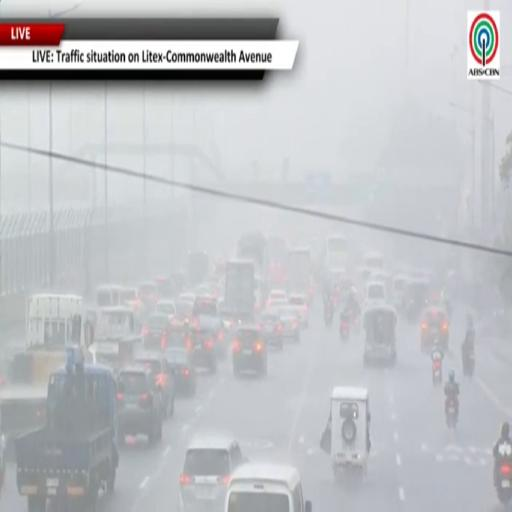car: (179, 436, 247, 511), (225, 463, 312, 511), (117, 365, 163, 443), (135, 351, 175, 417), (233, 326, 267, 375), (165, 348, 196, 397), (193, 315, 227, 359), (187, 327, 217, 374), (421, 307, 449, 350), (143, 313, 171, 349), (260, 309, 284, 350), (280, 307, 300, 342), (289, 294, 308, 328), (192, 295, 218, 318), (176, 293, 196, 321), (138, 281, 158, 308), (365, 281, 386, 302), (155, 299, 176, 318), (155, 277, 174, 297), (267, 290, 287, 307), (267, 299, 288, 308)
motorcycle: (495, 461, 511, 505), (446, 397, 458, 429), (463, 351, 475, 377), (340, 315, 350, 341), (432, 359, 442, 385), (349, 310, 360, 333), (324, 307, 333, 327)
truck: (15, 349, 118, 511), (0, 294, 91, 445), (89, 307, 142, 367), (237, 231, 270, 299), (223, 261, 255, 322), (237, 232, 269, 277), (286, 248, 312, 296), (188, 251, 209, 285)
